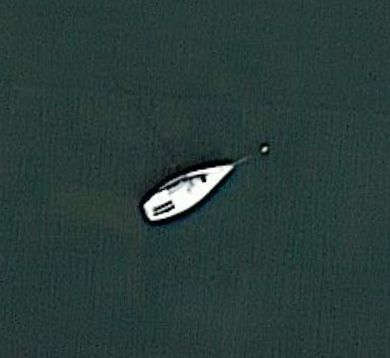boat: (140, 163, 235, 225)
